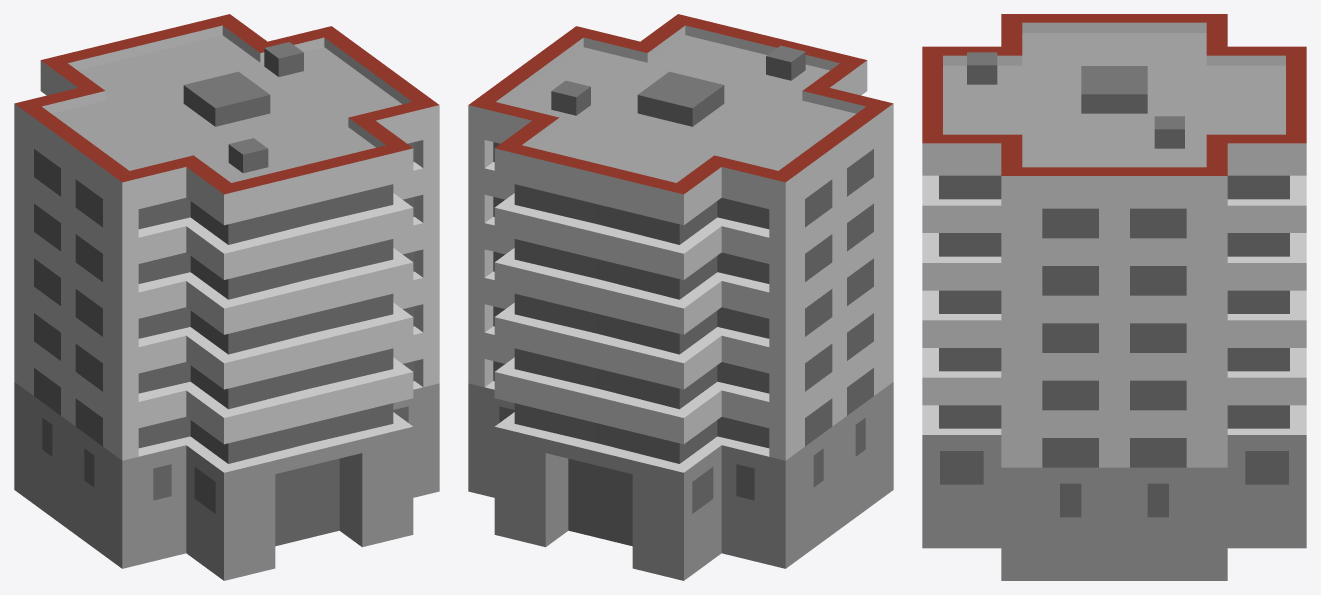
File: house_13.glb
3 views of the same model, side by side, from view 1: azimuth 30°, elevation 25°; view 2: azimuth 150°, elevation 25°; view 3: azimuth 270°, elevation 25° (orthographic). The views are drawn at different scales.
Visible parts, largest first — view 1: house_13; view 2: house_13; view 3: house_13.
Boxes of the visible parts, <box> form: house_13: <box>14,14,439,580</box>; house_13: <box>468,14,893,580</box>; house_13: <box>922,14,1306,580</box>.
Bounding box in the file's own units: 2 × 2.41 × 2.
